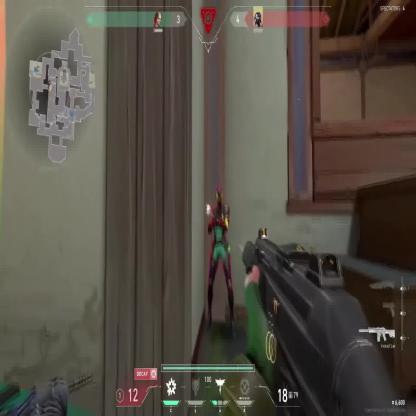enemy: (204, 184, 234, 334)
enemy_head: (214, 185, 224, 206)
